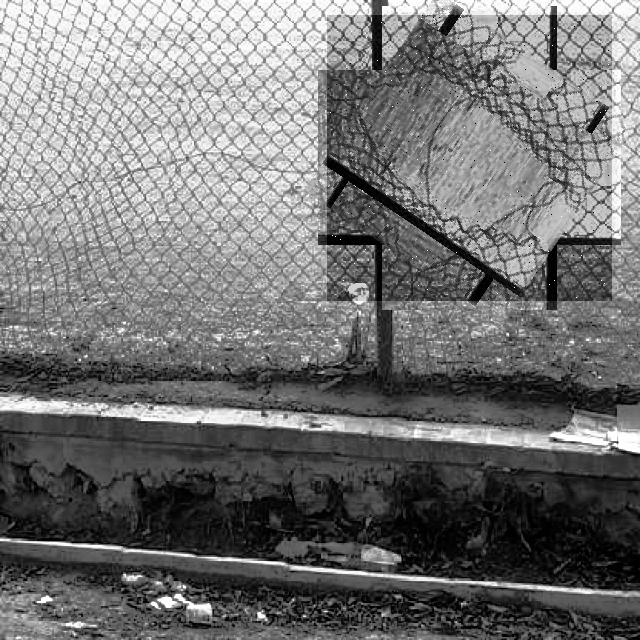anomaly-fence: (327, 15, 612, 301)
